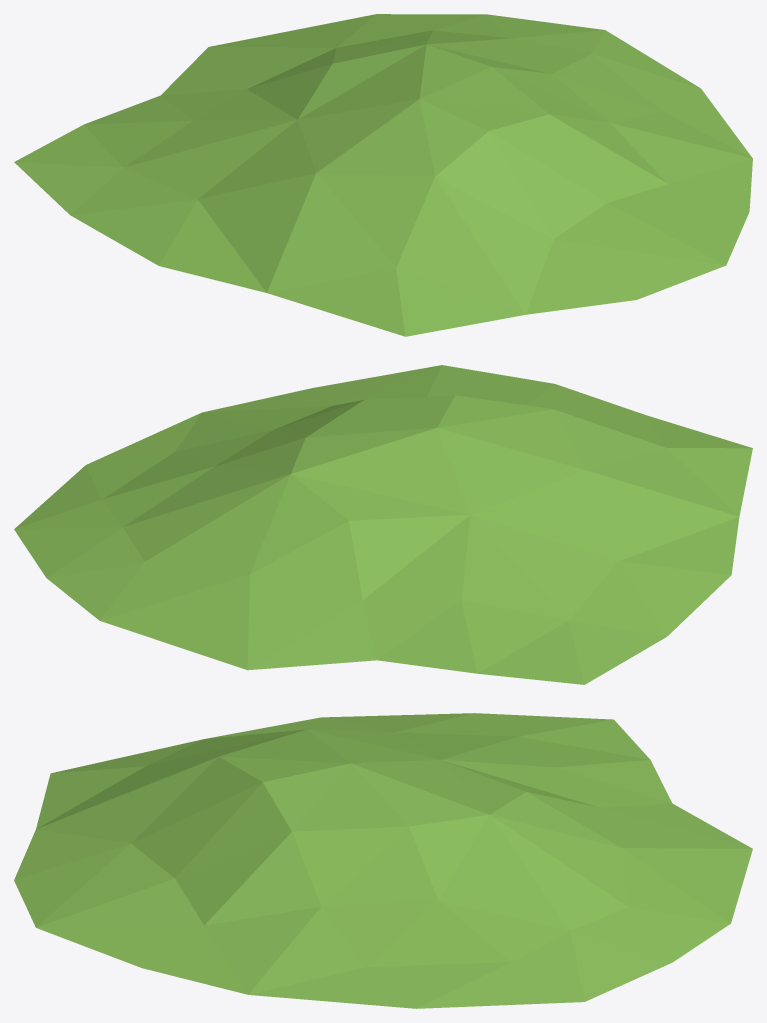
Rendered from MT_Mountain_S_a_07.fbx.
3 renders of one model, top to bottom at view 1: azimuth 30°, elevation 25°; view 2: azimuth 150°, elevation 25°; view 3: azimuth 270°, elevation 25°, orthographic.
Visible parts, largest first — view 1: MT_Mountain_S_a_07; view 2: MT_Mountain_S_a_07; view 3: MT_Mountain_S_a_07.
Part boxes in pixels (left/top/right/bottom): MT_Mountain_S_a_07: left=14, top=14, right=752, bottom=336; MT_Mountain_S_a_07: left=14, top=365, right=752, bottom=684; MT_Mountain_S_a_07: left=14, top=713, right=752, bottom=1008.
Size of the model in its own units: 1875 by 274 by 1973.
